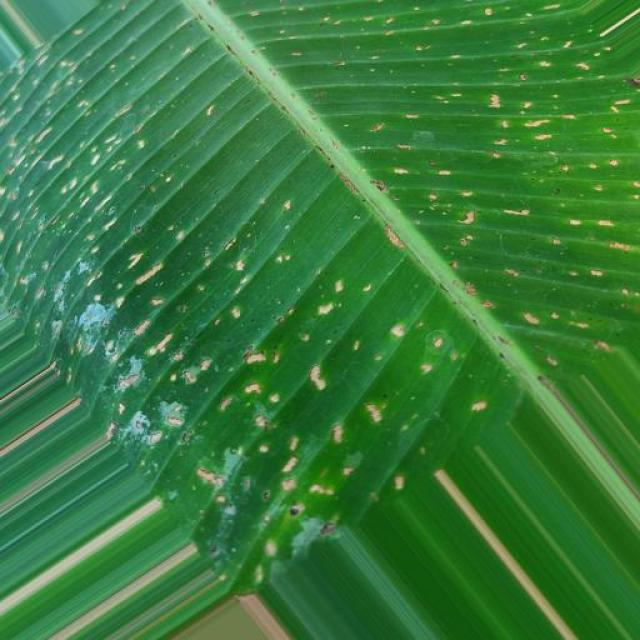Black_rot: (6, 3, 632, 583)
